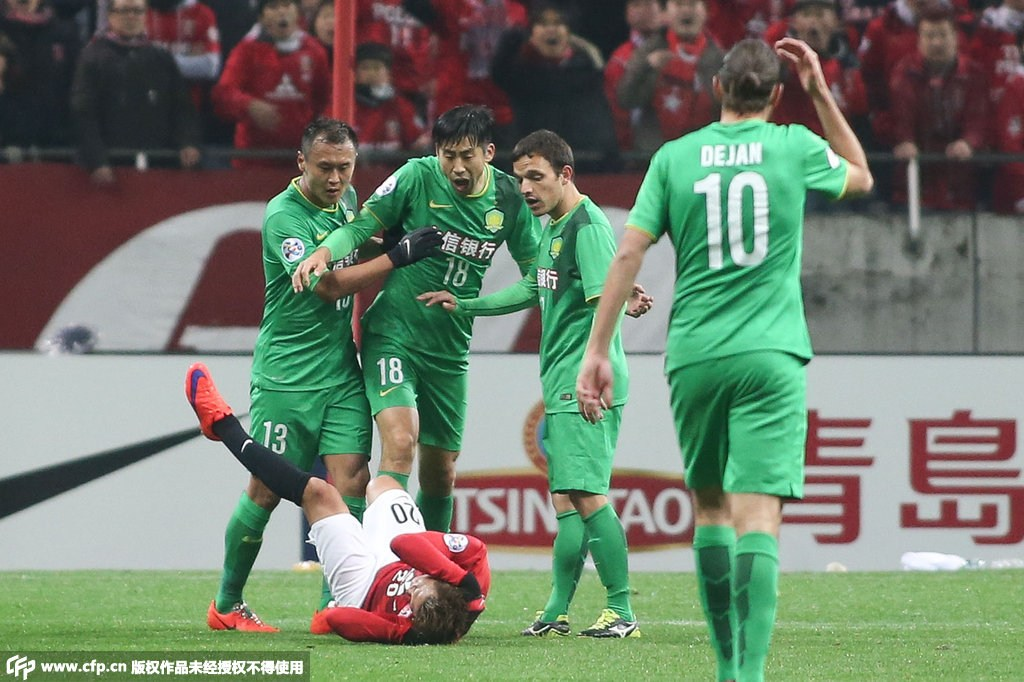10+: (7, 3, 1020, 678)
down: (166, 353, 512, 647)
